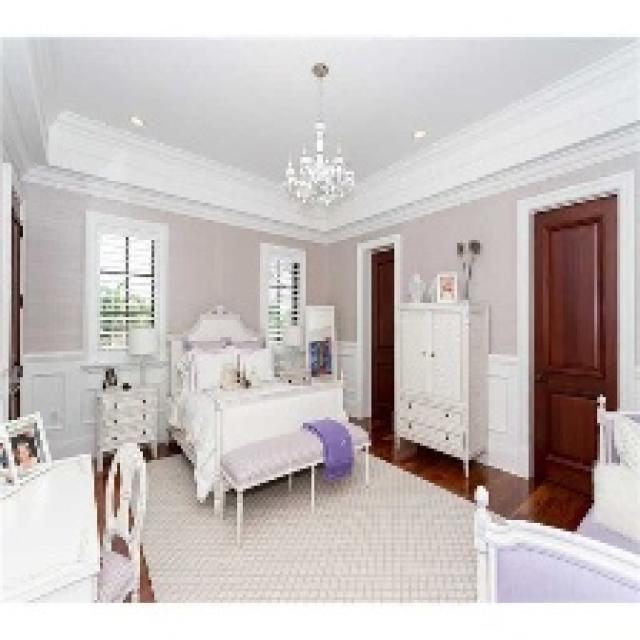Bed: (163, 303, 368, 503), (472, 391, 637, 603)
